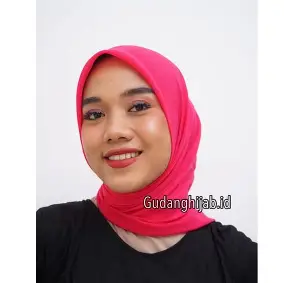kerudung_benar: (77, 44, 208, 194)
